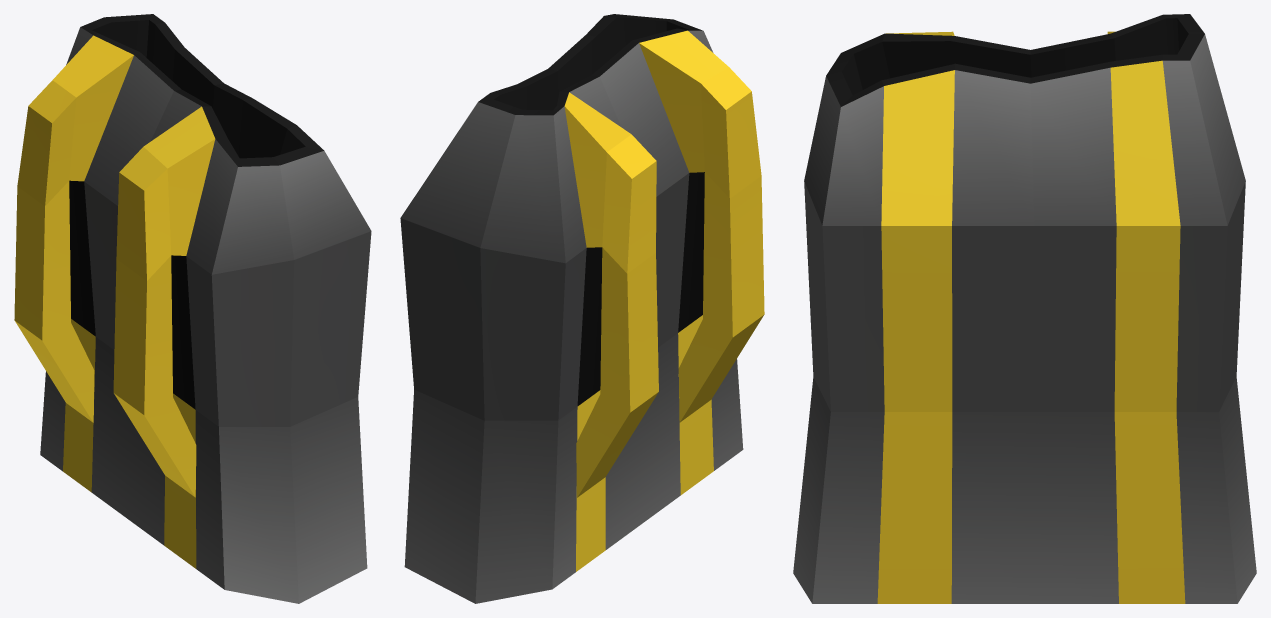
Rendered from Backpack.fbx.
3 views of the same model, side by side, from view 1: azimuth 30°, elevation 25°; view 2: azimuth 150°, elevation 25°; view 3: azimuth 270°, elevation 25° (orthographic). The views are drawn at different scales.
Visible parts, largest first — view 1: Cube; view 2: Cube; view 3: Cube.
Part boxes in pixels (x1=…): Cube: x1=14, y1=14, x2=371, y2=603; Cube: x1=400, y1=14, x2=764, y2=603; Cube: x1=793, y1=14, x2=1256, y2=603.
Size of the model in its own units: 0.2088 by 0.4572 by 0.3604.
